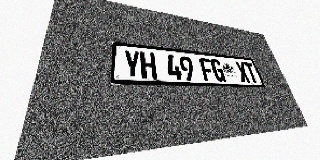4: (165, 54, 183, 80)
9: (179, 55, 196, 80)
F: (199, 58, 216, 81)
G: (210, 59, 226, 82)
H: (140, 51, 157, 79)
T: (243, 62, 259, 83)
X: (235, 61, 251, 82)
Y: (124, 50, 141, 79)
